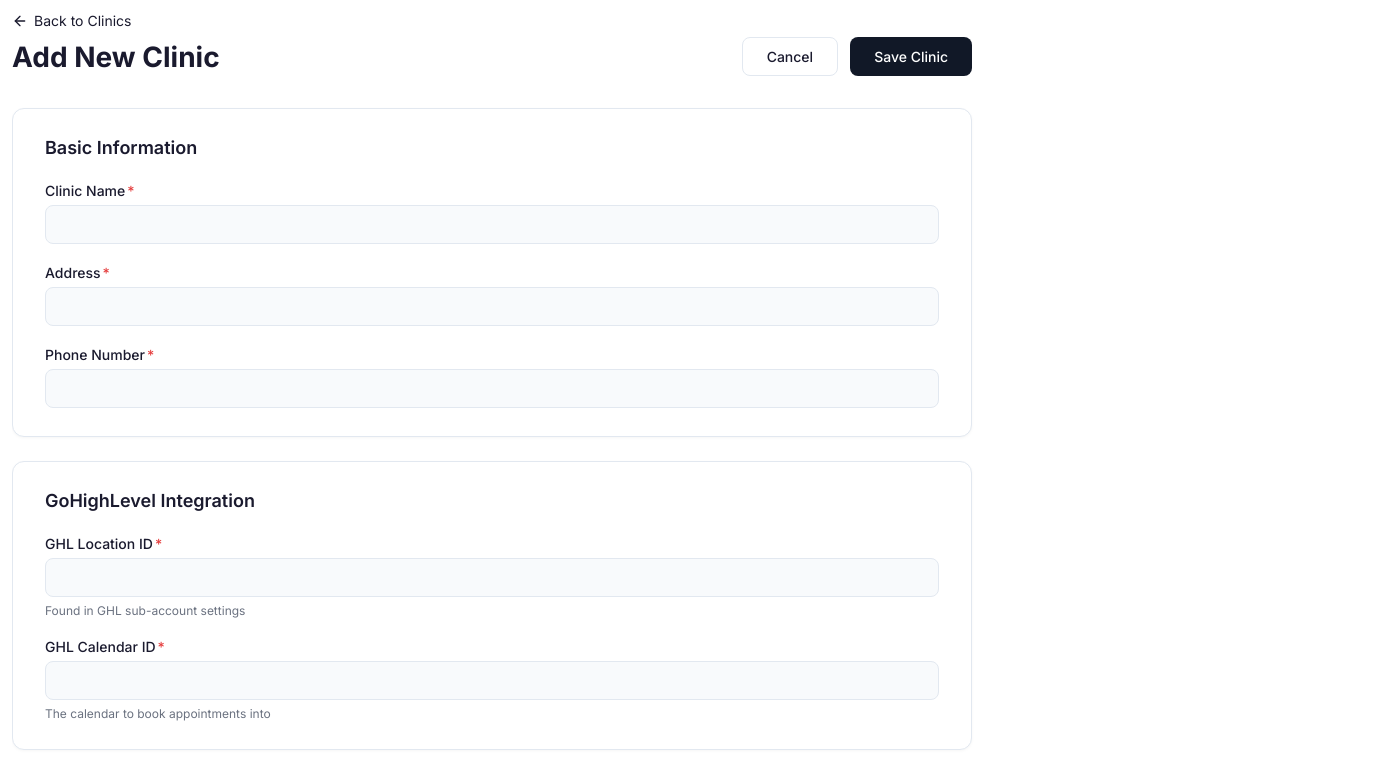
AddClinicPage › should reject clinic name shorter than 2 characters
Type "A" into the field below "Clinic Name" at {"x": 492, "y": 224}, box [45, 205, 939, 244]
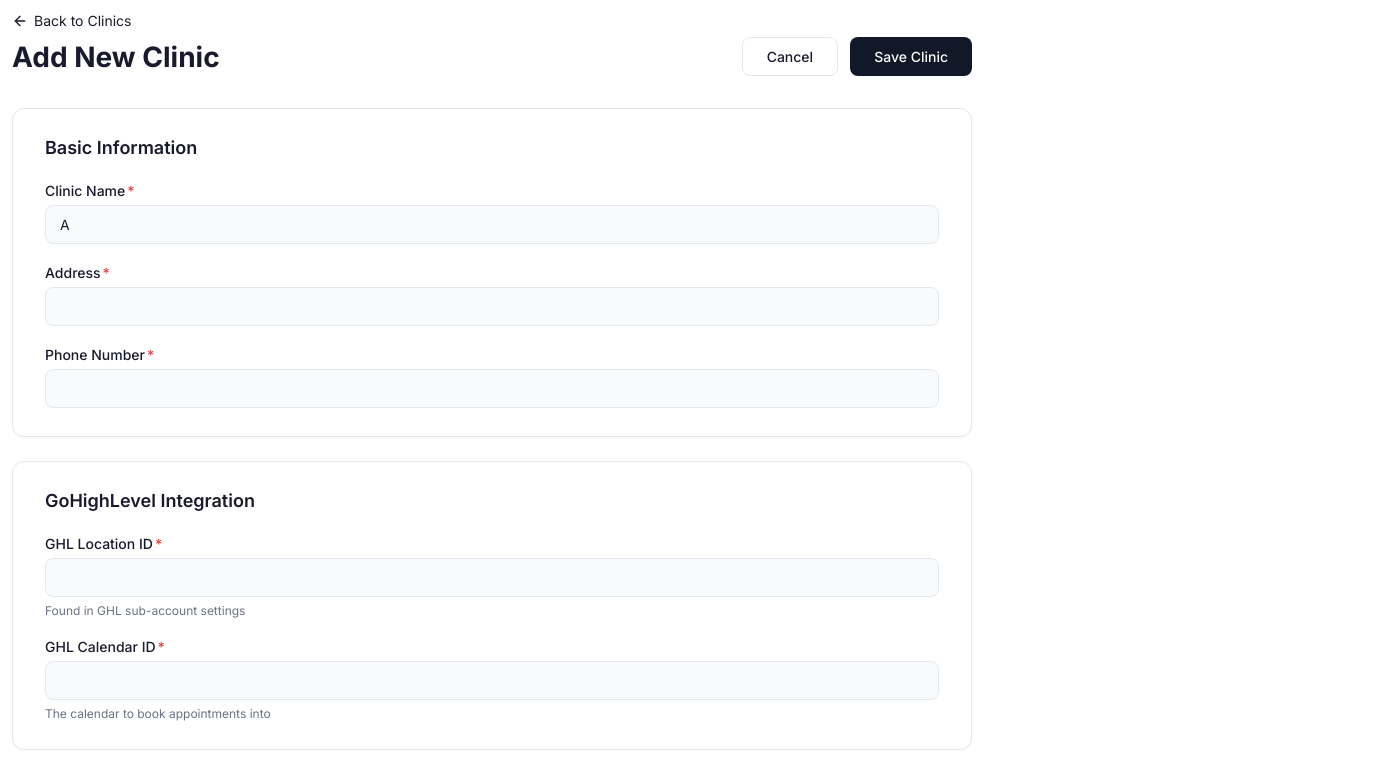
Type "loc_test_001" into the field below "GHL Location ID" at {"x": 492, "y": 578}, box [45, 558, 939, 597]
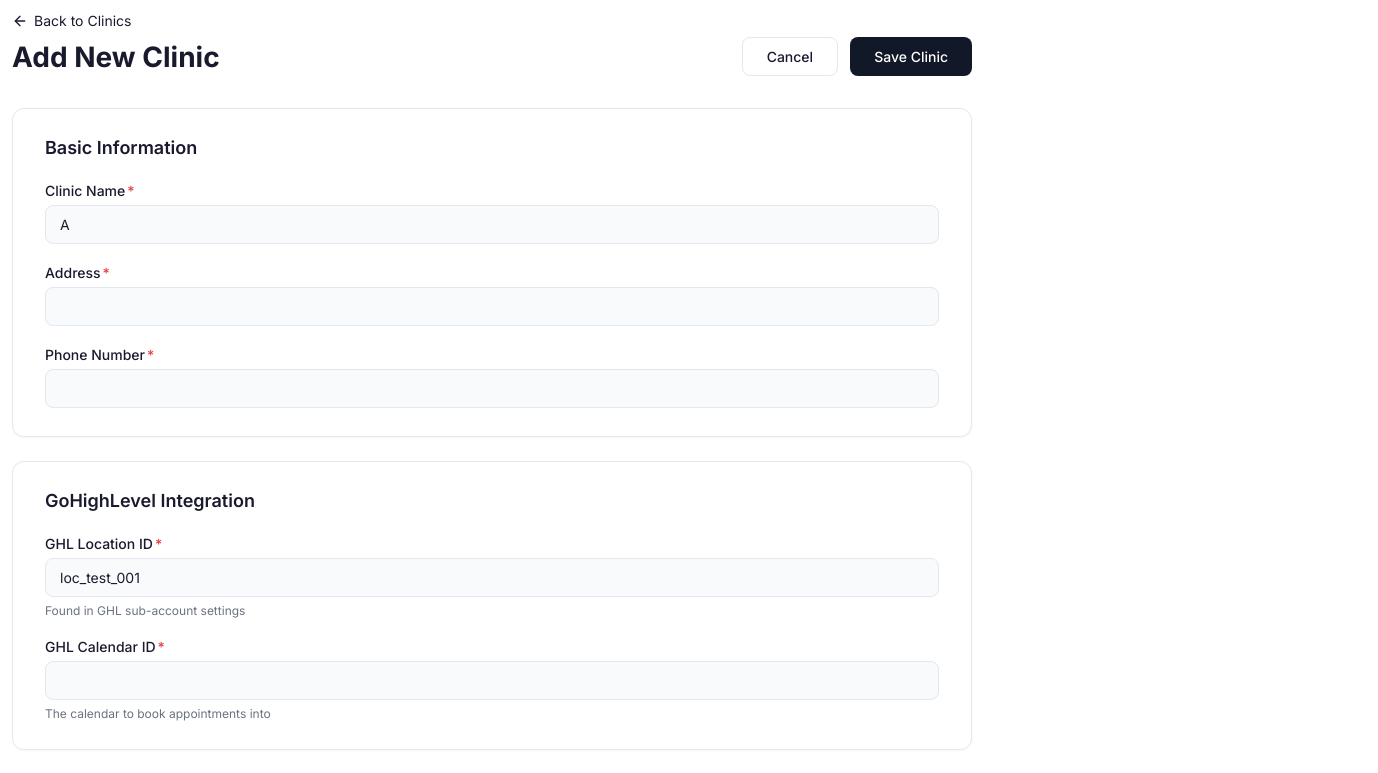
Type "cal_test_001" into the field below "GHL Calendar ID" at {"x": 492, "y": 680}, box [45, 661, 939, 700]
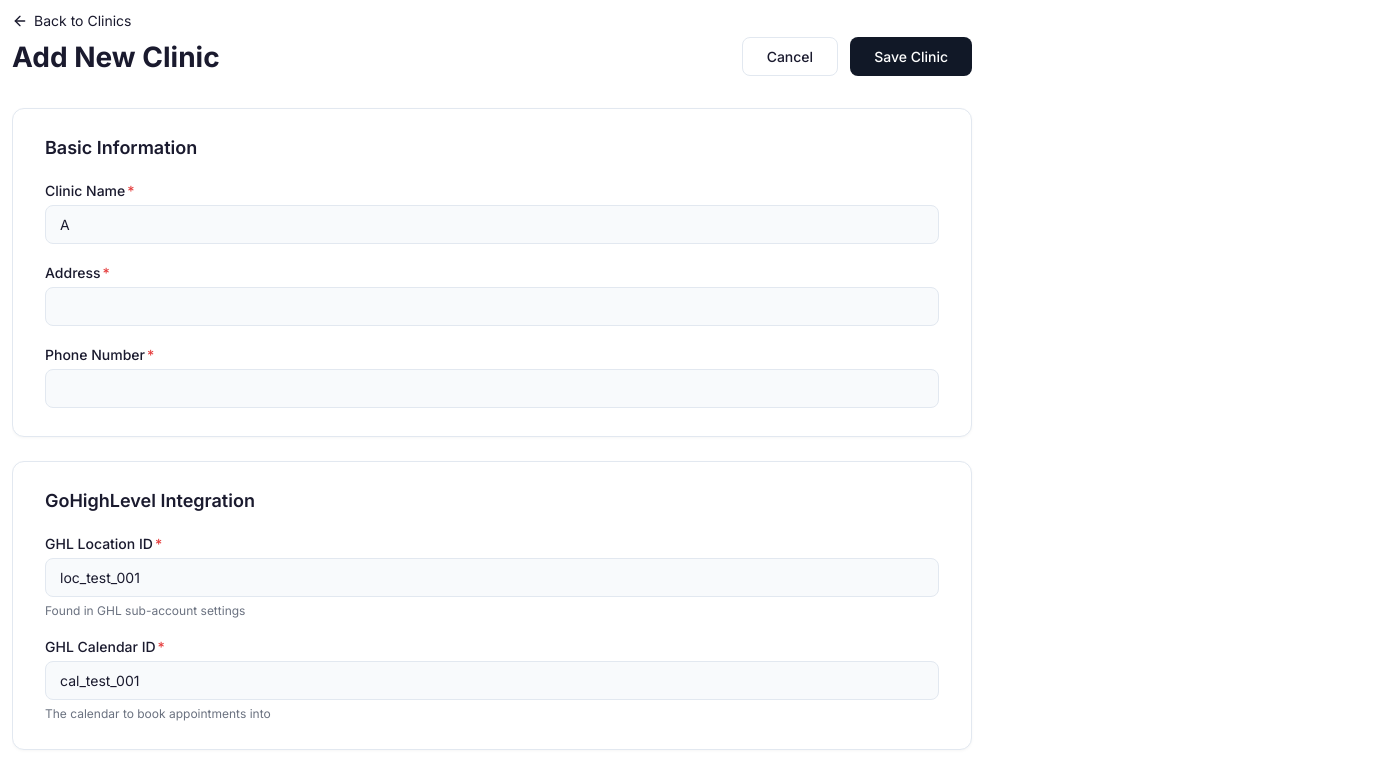
Click the button "Save Clinic" at {"x": 911, "y": 56}, box [850, 37, 972, 76]
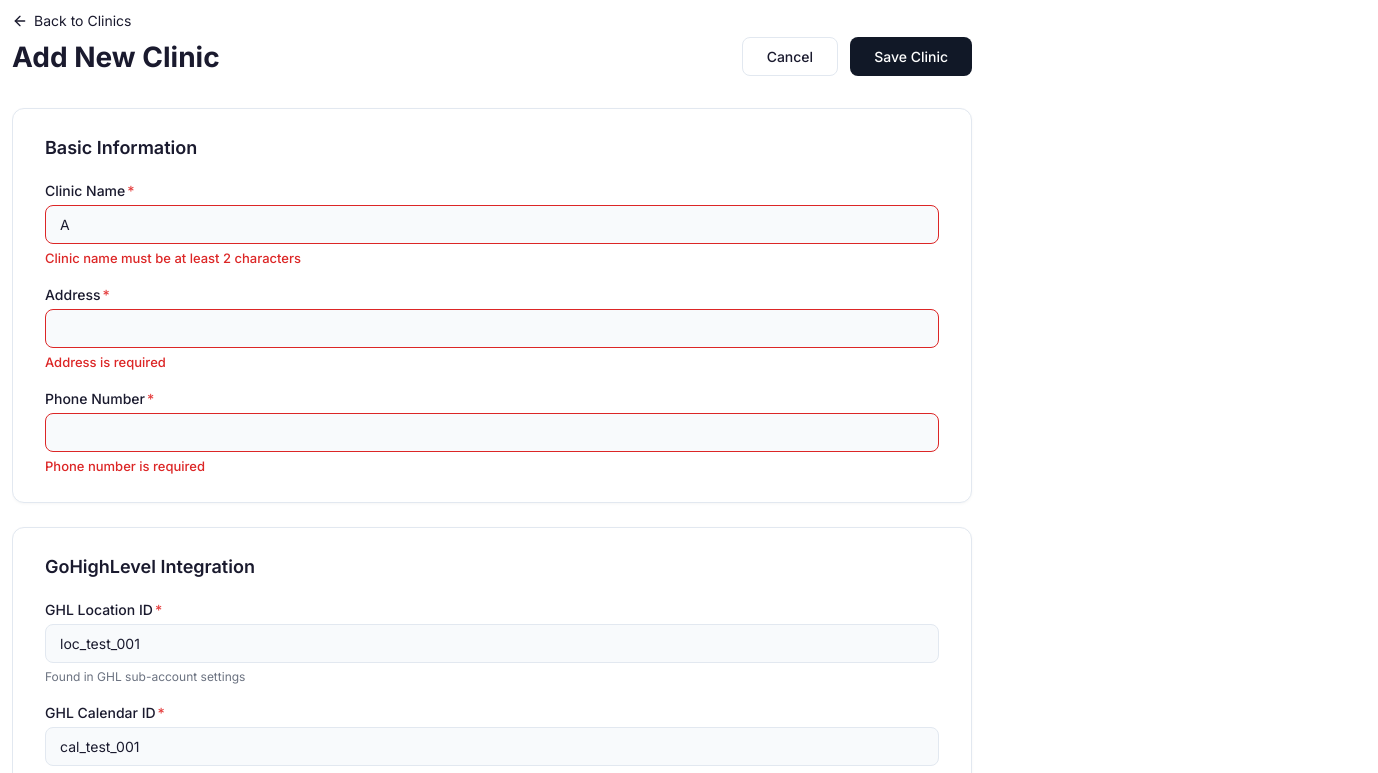
Result: the text "Clinic name must be at least 2 characters" is shown at [45, 250, 301, 266]
